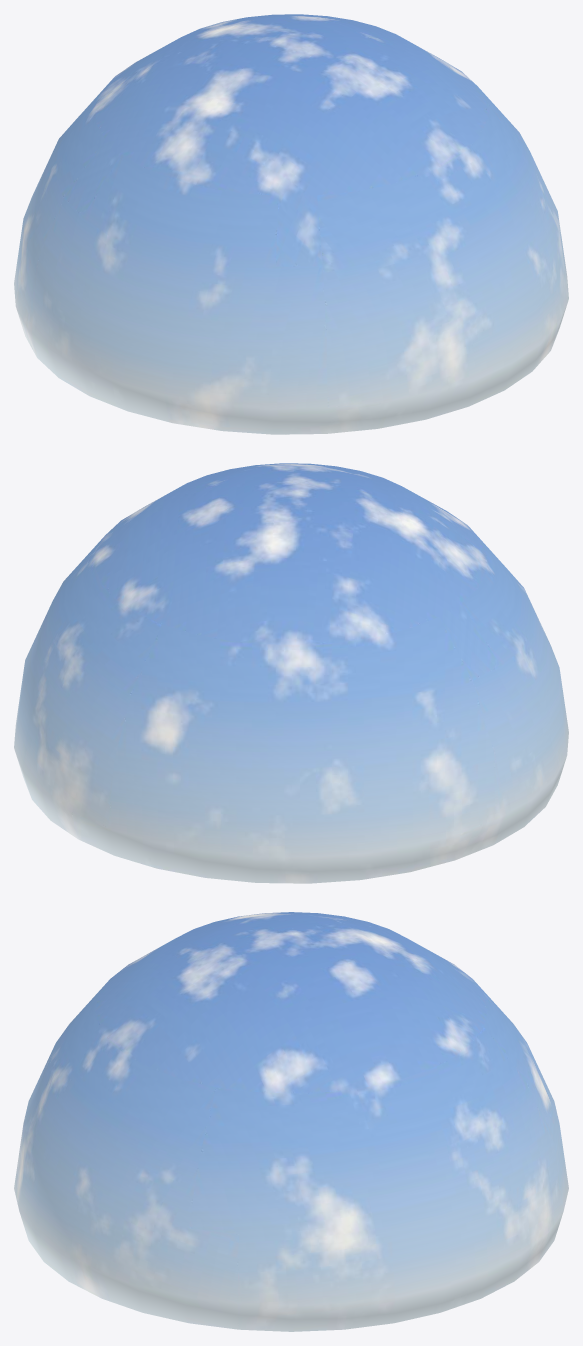
Rendered from mad_tea_party.gltf.
3 renders of one model, top to bottom at view 1: azimuth 30°, elevation 25°; view 2: azimuth 150°, elevation 25°; view 3: azimuth 270°, elevation 25°, orthographic.
Parts seen in each view (by area): view 1: MESH_SkyDome; view 2: MESH_SkyDome; view 3: MESH_SkyDome.
Boxes of the visible parts, x1,y1,x2,y2 form: MESH_SkyDome: (14,14,568,434); MESH_SkyDome: (14,463,568,883); MESH_SkyDome: (14,912,568,1331).
Bounding box in the file's own units: 90 × 50.4 × 90.
26 materials, 26 textured.
